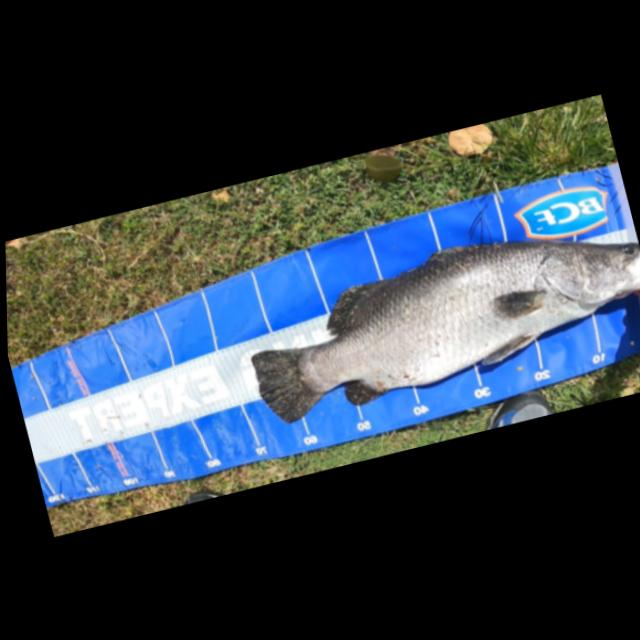Seabass: (230, 201, 640, 428)
